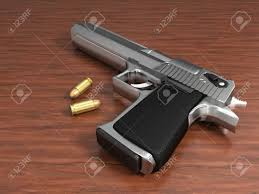gun: (66, 15, 249, 177)
